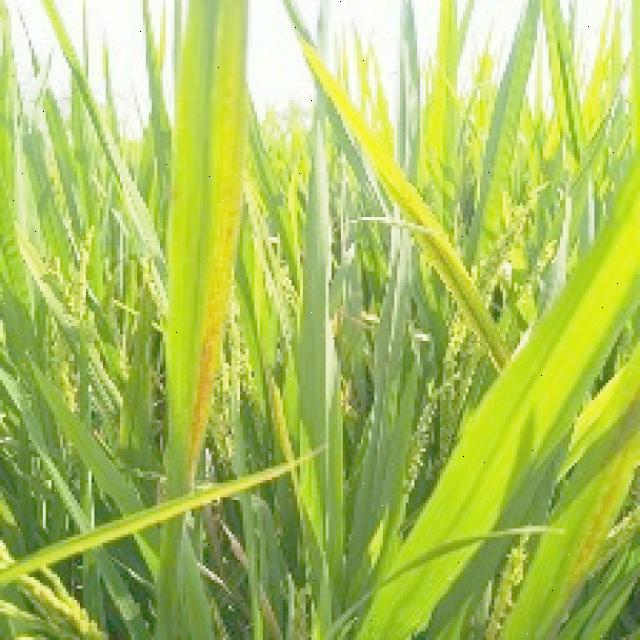-: (301, 310, 563, 631)
